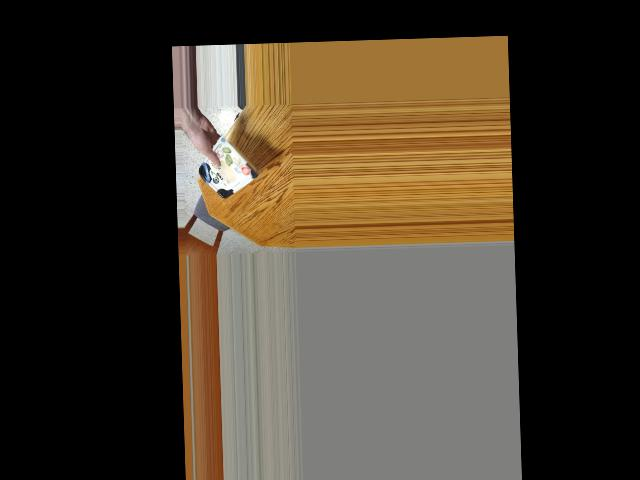cheese: (205, 140, 250, 197)
